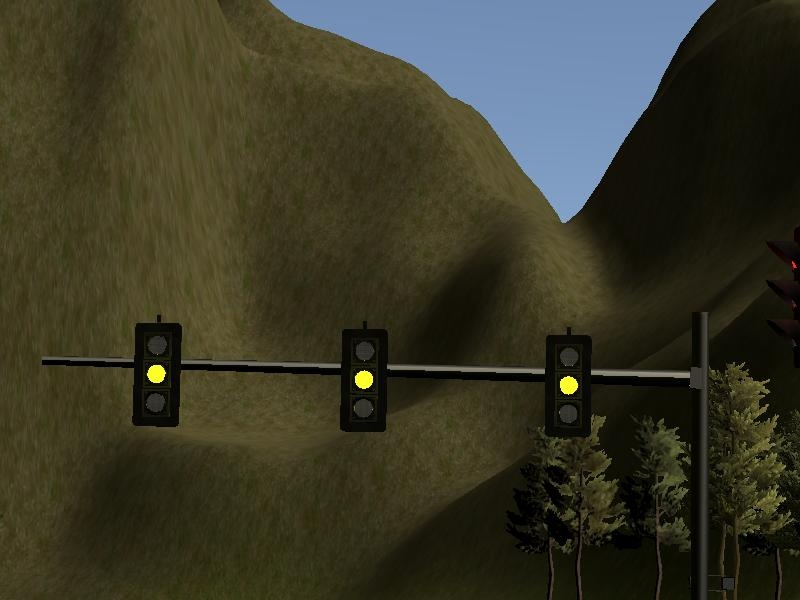YELLOW: (130, 317, 183, 431), (336, 322, 389, 436), (540, 328, 593, 442)
